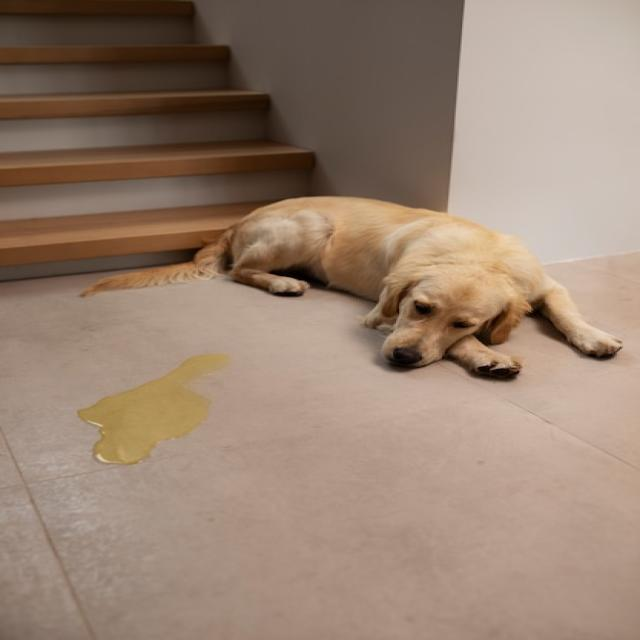Dog: (82, 198, 624, 382)
